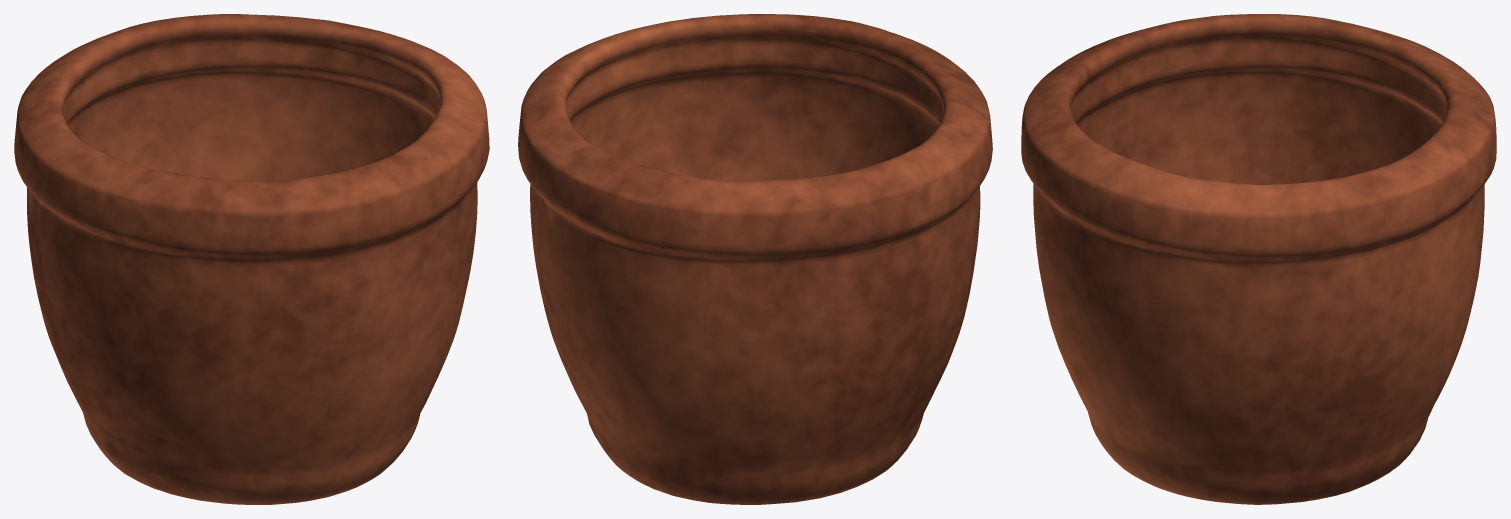
The model's file is terracotta-pot-v001.glb.
3 renders of one model, left to right at view 1: azimuth 30°, elevation 25°; view 2: azimuth 150°, elevation 25°; view 3: azimuth 270°, elevation 25°, orthographic.
Visible parts, largest first — view 1: terracotta-pot; view 2: terracotta-pot; view 3: terracotta-pot.
Boxes of the visible parts, x1,y1,x2,y2 form: terracotta-pot: (14, 14, 489, 504); terracotta-pot: (518, 14, 992, 504); terracotta-pot: (1021, 14, 1496, 504).
Size of the model in its own units: 0.5619 by 0.45 by 0.5609.
1 material, 1 textured.
